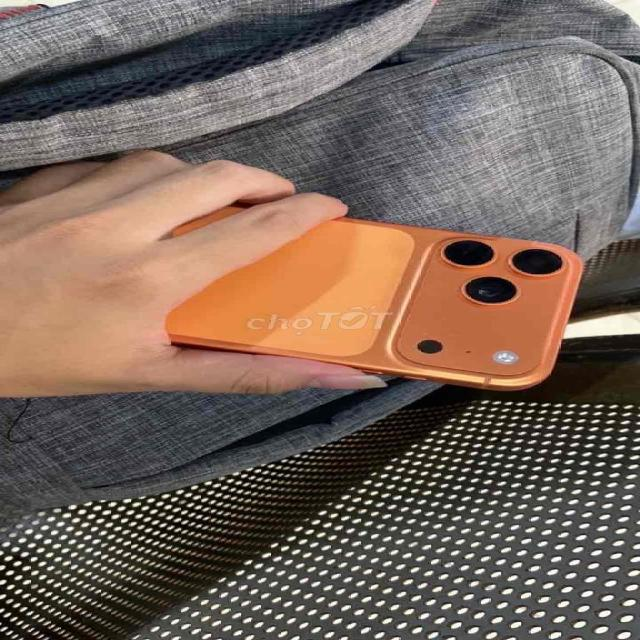gen_17: (167, 218, 581, 389)
